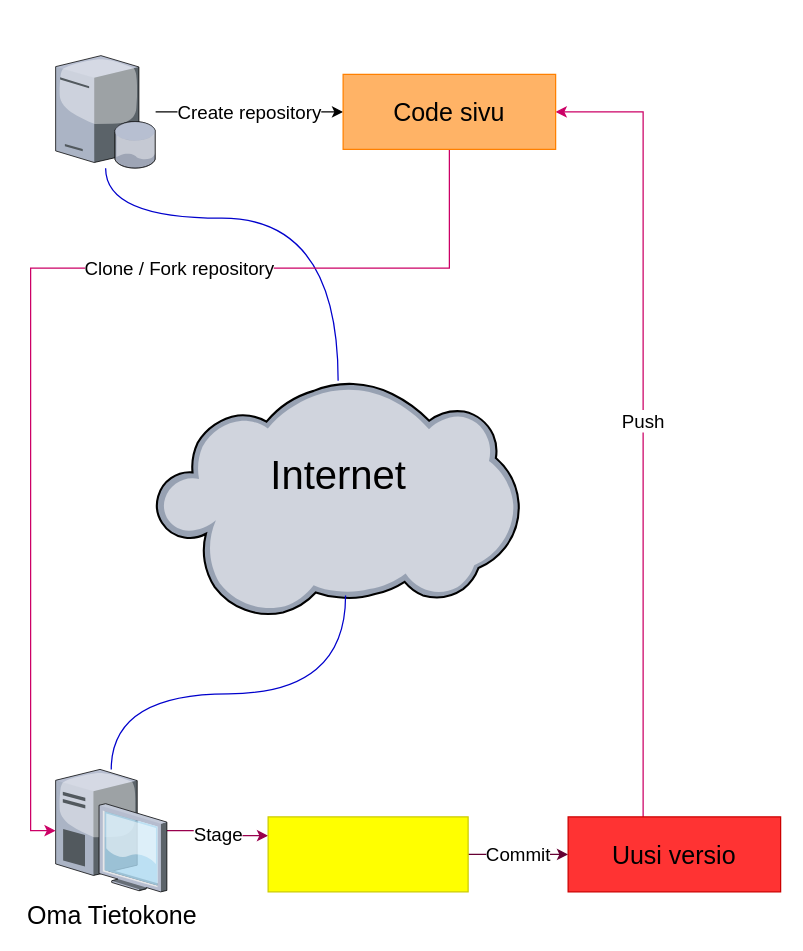
Some shapes in this 803 by 951 pixel diagram are drawn without their labels. The shapes that lost their labels are listed below. From the top down, each one's centre as x and y in pixels, then its label:
At pixel 105 111: "Github".
At pixel 367 854: "Versiohallinta".
